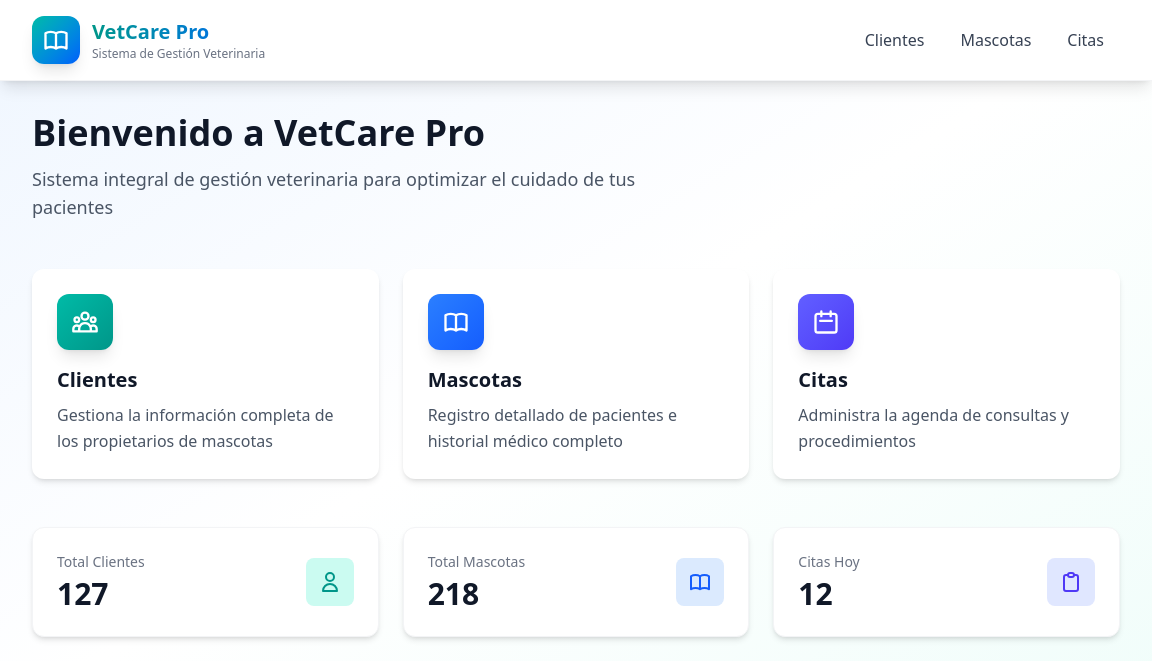
Scenario: MascotApp E2E Tests › Flujo Completo de Usuario › permite navegar por toda la aplicación
expect the heading "Bienvenido a VetCare Pro" is shown: met, box 32,108 -> 485,157
Click the heading "Clientes" at (97, 380), box 57,366 -> 137,393
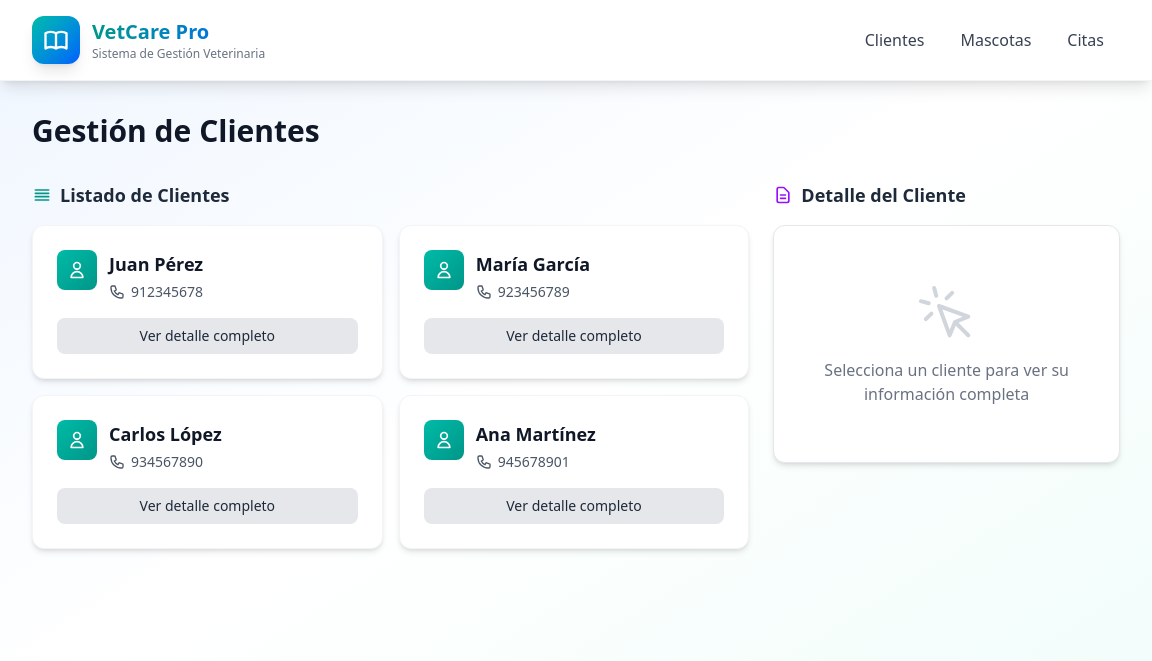
expect the heading "Juan Pérez" is shown: met, box 109,252 -> 203,276
// En tu componente, el botón dice "Ver detalle completo", no "Ver detalle"
Click the button "Ver detalle completo" below "912345678" at (208, 336), box 57,318 -> 358,354
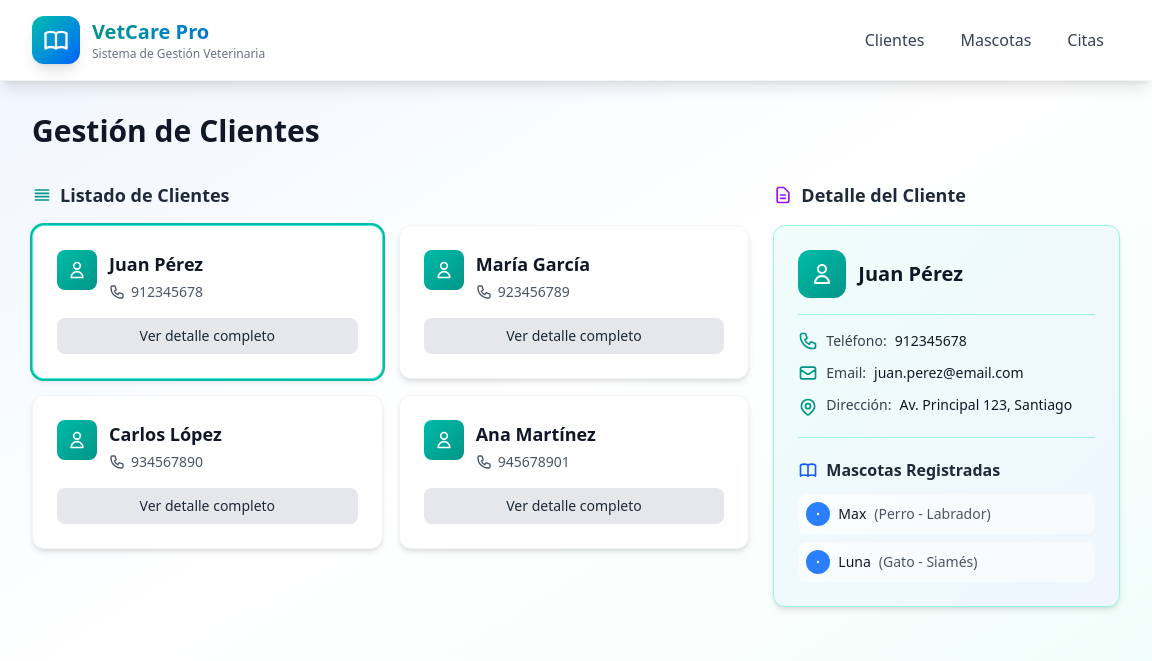
// Ver mascotas
Click the link "Mascotas" at (996, 40), box 960,29 -> 1031,51
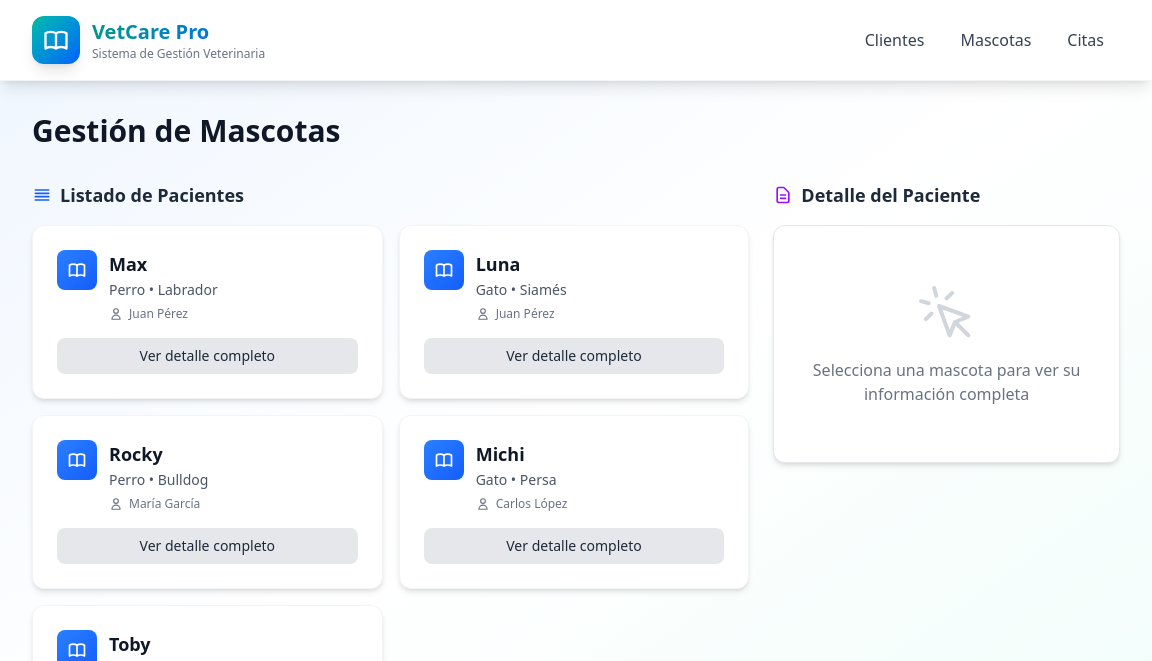
expect the heading "Max" is shown: met, box 109,252 -> 147,276
// Ver citas
Click the link "Citas" at (1086, 40), box 1067,29 -> 1104,51
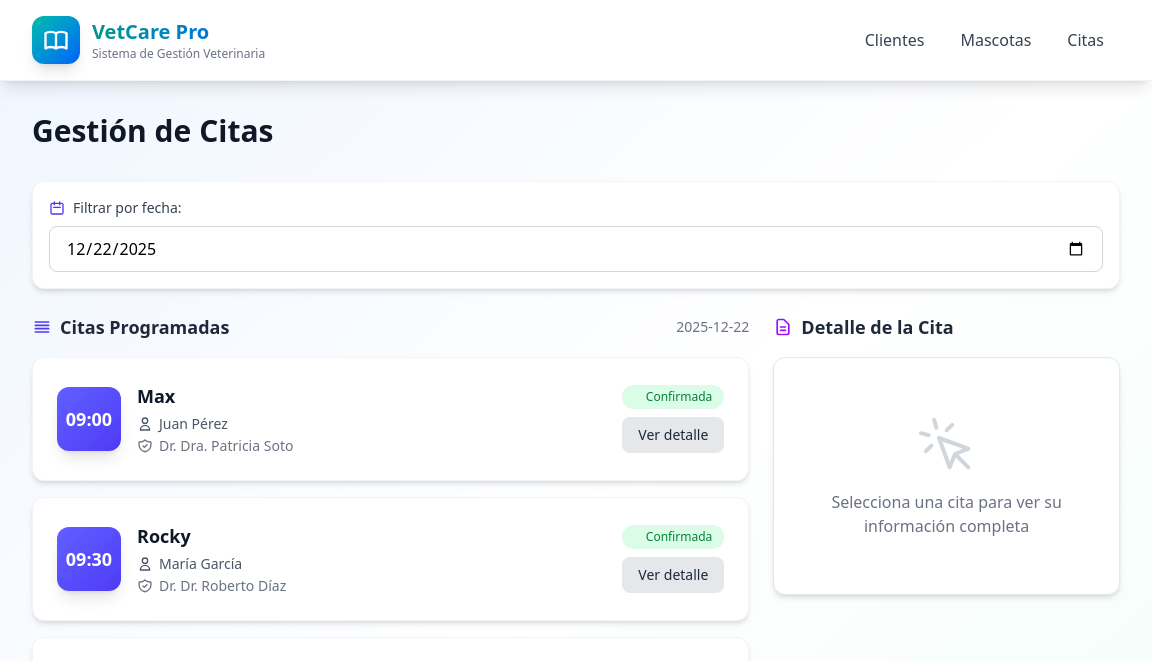
expect the heading "Citas Programadas" is shown: met, box 60,313 -> 229,341
// Volver al inicio
Click the link "VetCare Pro" at (149, 40), box 32,16 -> 265,64
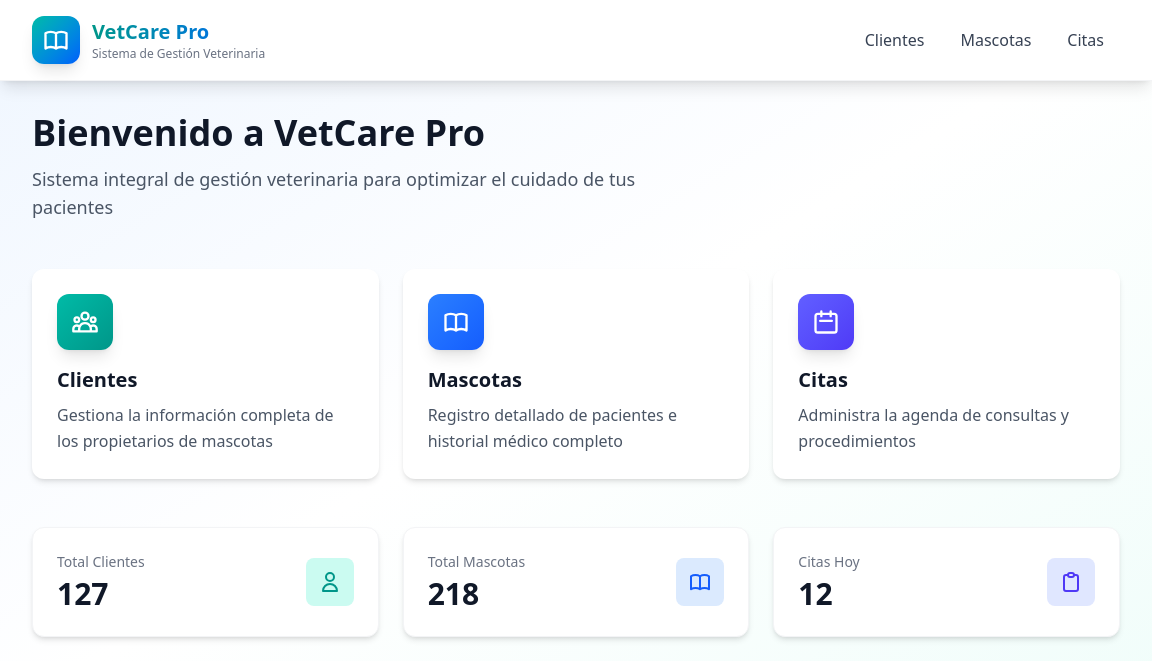
expect the heading "Bienvenido a VetCare Pro" is shown: met, box 32,108 -> 485,157
